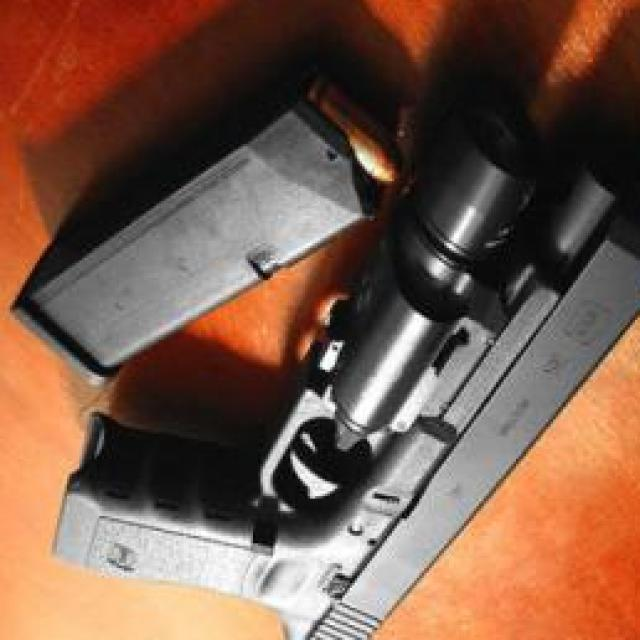pistol: (55, 82, 640, 640)
